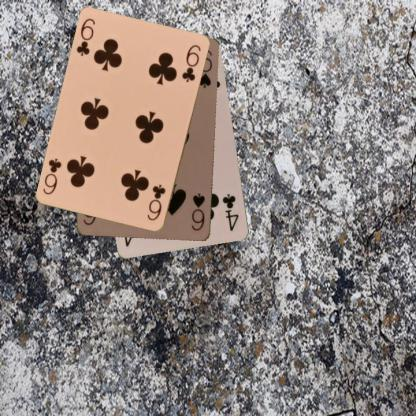4c: (220, 192, 240, 232)
6c: (74, 16, 97, 58), (144, 182, 167, 222)
6s: (189, 191, 206, 232)
